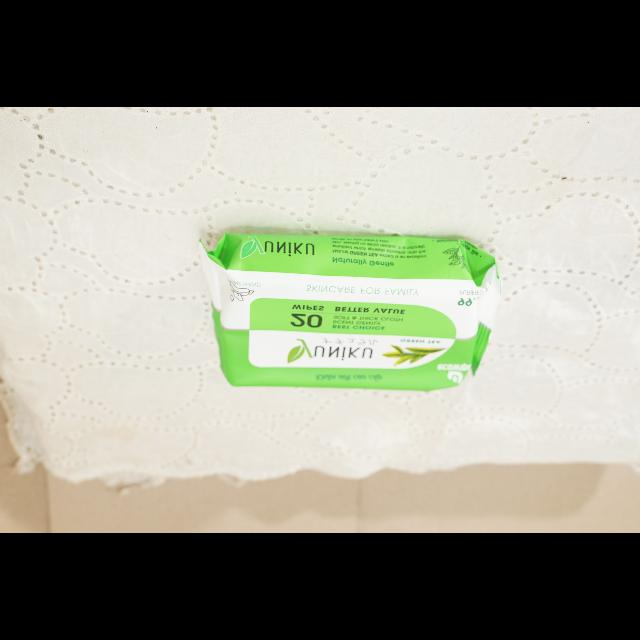khan_giay: (199, 233, 500, 390)
